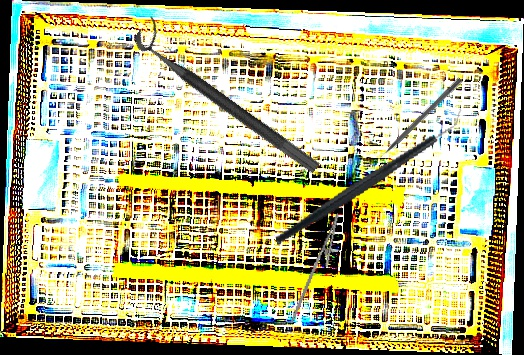Chopper: (255, 105, 483, 247)
Fixation Ring: (130, 15, 332, 175)
Needle Holder: (289, 209, 349, 330)
Pusher: (372, 76, 463, 165)
